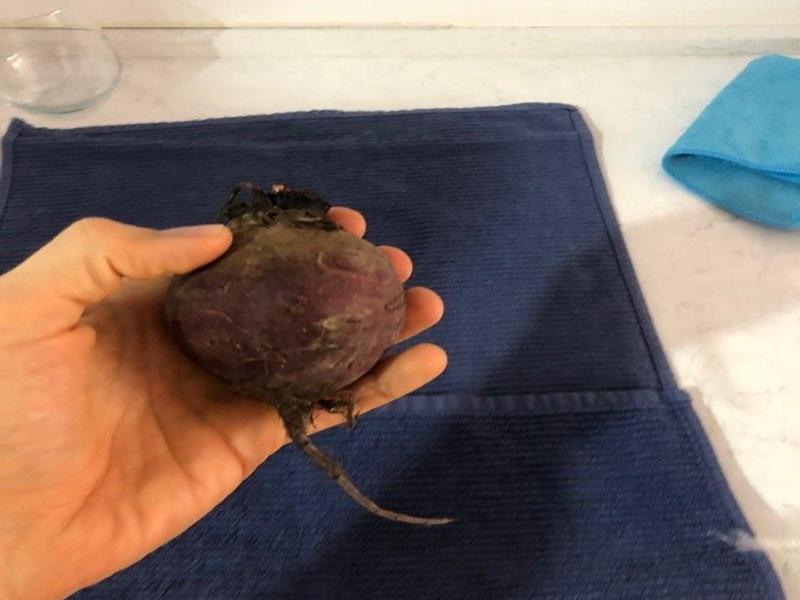Beet: (161, 184, 457, 525)
